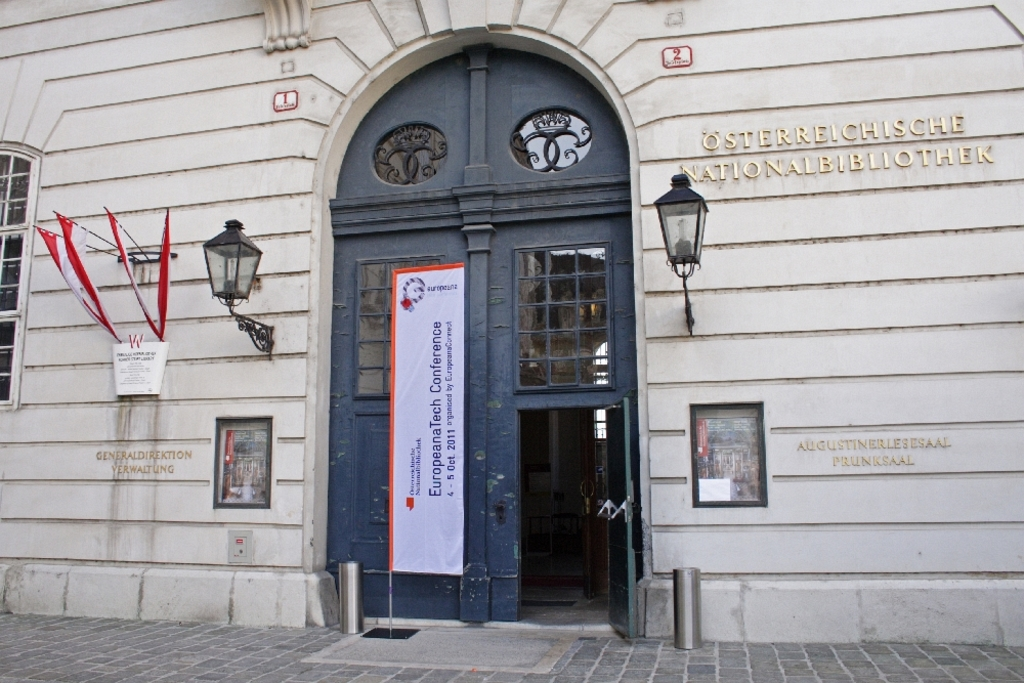door: (594, 407, 638, 631)
handle: (586, 491, 619, 524)
